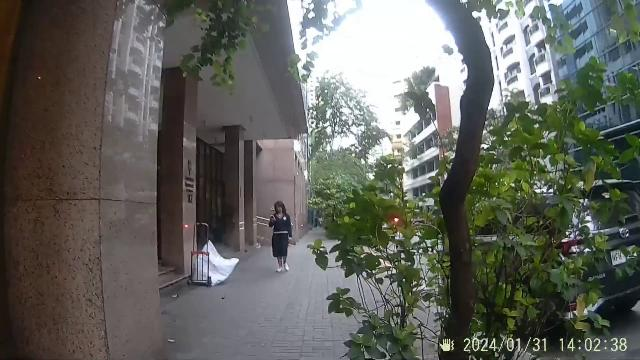tree: (395, 16, 537, 338)
